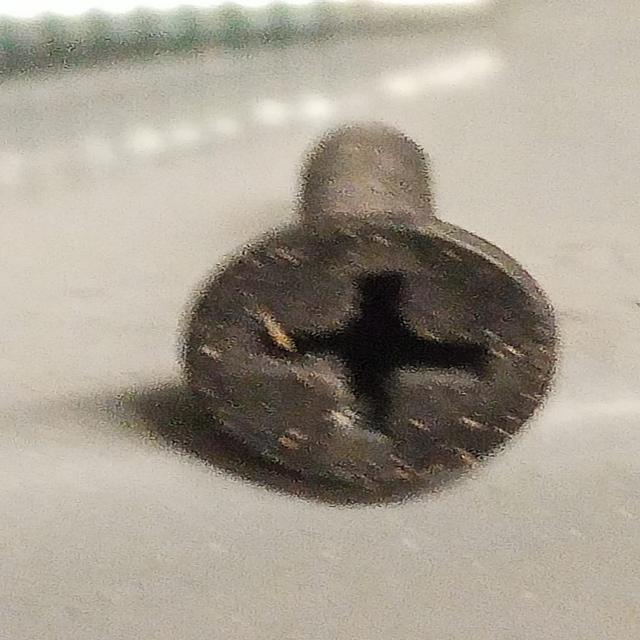phillips: (178, 212, 558, 493)
